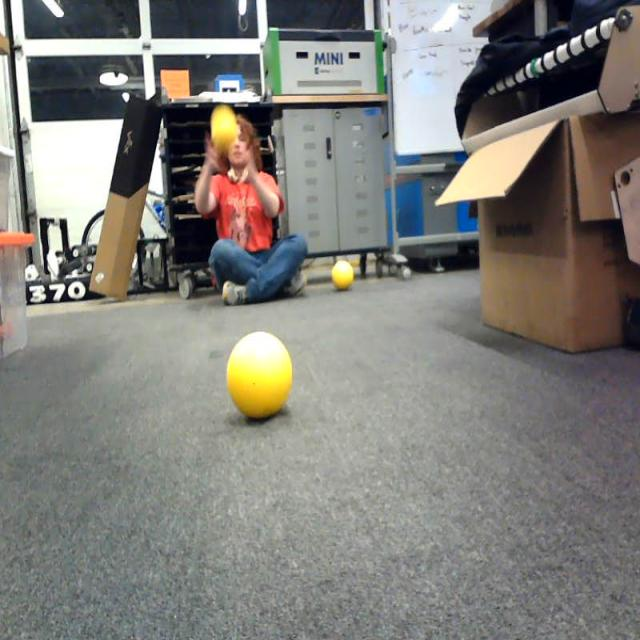Fuel: (227, 332, 293, 419), (212, 111, 237, 148), (332, 260, 353, 290)
